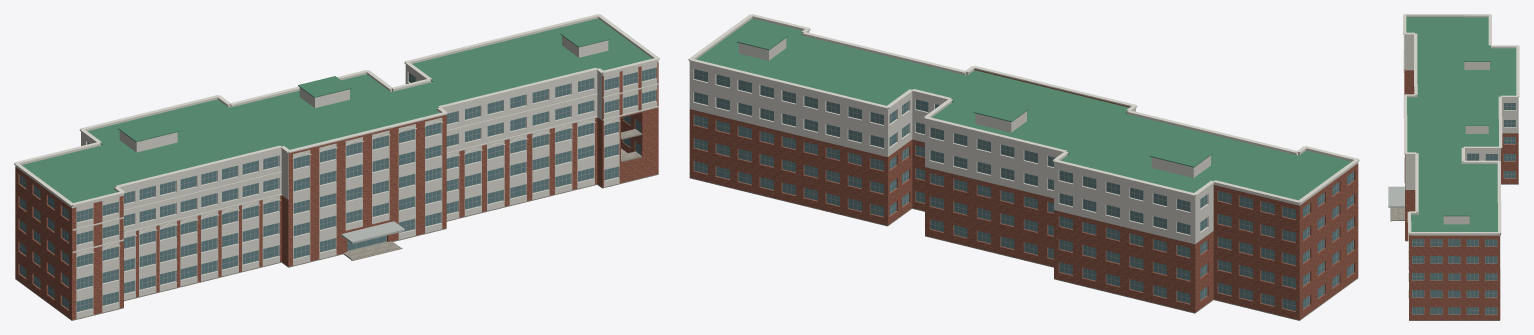
3 views of the same model, side by side, from view 1: azimuth 30°, elevation 25°; view 2: azimuth 150°, elevation 25°; view 3: azimuth 270°, elevation 25° (orthographic). The views are drawn at different scales.
Parts seen in each view (by area): view 1: main__white, main__roof, main__glass, main__brick, main__frame, main__stone, main__panel, main__threshold-central; view 2: main__brick, main__roof, main__white, main__glass, main__frame, main__stone; view 3: main__roof, main__brick, main__white, main__glass, main__frame, main__panel, main__threshold-central, main__stone.
Part boxes in pixels (x1,y1,x2,y2): main__white: (14, 14, 659, 318); main__roof: (22, 18, 651, 202); main__glass: (19, 67, 655, 311); main__brick: (15, 62, 658, 319); main__frame: (19, 68, 655, 312); main__stone: (15, 129, 658, 320); main__panel: (341, 221, 404, 243); main__threshold-central: (343, 241, 400, 259); main__brick: (689, 69, 1358, 319); main__roof: (696, 18, 1351, 200); main__white: (688, 14, 1359, 244); main__glass: (694, 69, 1353, 310); main__frame: (694, 69, 1353, 311); main__stone: (689, 177, 1357, 320); main__roof: (1406, 17, 1516, 231); main__brick: (1404, 70, 1518, 320); main__white: (1403, 14, 1519, 269); main__glass: (1412, 96, 1515, 314); main__frame: (1412, 103, 1515, 314); main__panel: (1388, 186, 1404, 207); main__threshold-central: (1392, 207, 1404, 220); main__stone: (1405, 162, 1518, 320).
Bounding box in the file's own units: 101 × 20.46 × 25.56.
7 materials, 2 textured.
